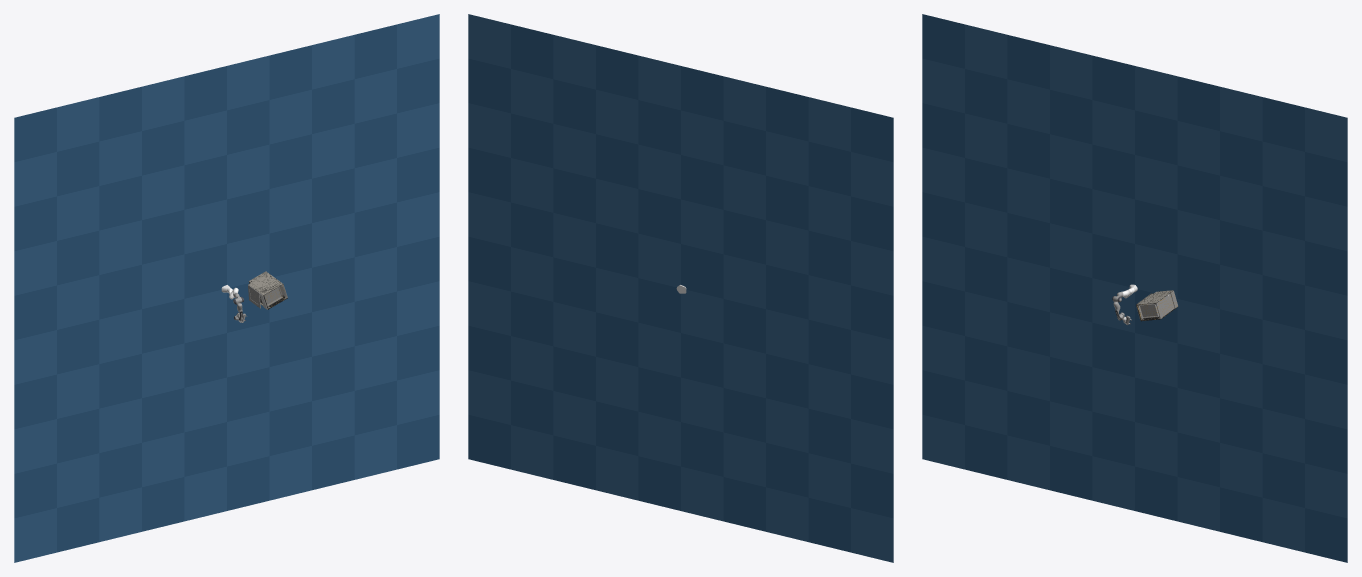
File: cabinet_scene.glb
3 renders of one model, left to right at view 1: azimuth 30°, elevation 25°; view 2: azimuth 150°, elevation 25°; view 3: azimuth 330°, elevation 25°, orthographic.
Parts seen in each view (by area): view 1: Plane, world; view 2: Plane; view 3: Plane, world.
Boxes of the visible parts, x1,y1,x2,y2 form: Plane: (14,14,439,562); world: (233,271,287,322); Plane: (468,14,893,562); Plane: (922,14,1347,562); world: (1112,290,1178,324).
Size of the model in its own units: 10 by 10 by 0.766.
Materials: 13 (13 with a texture image).
